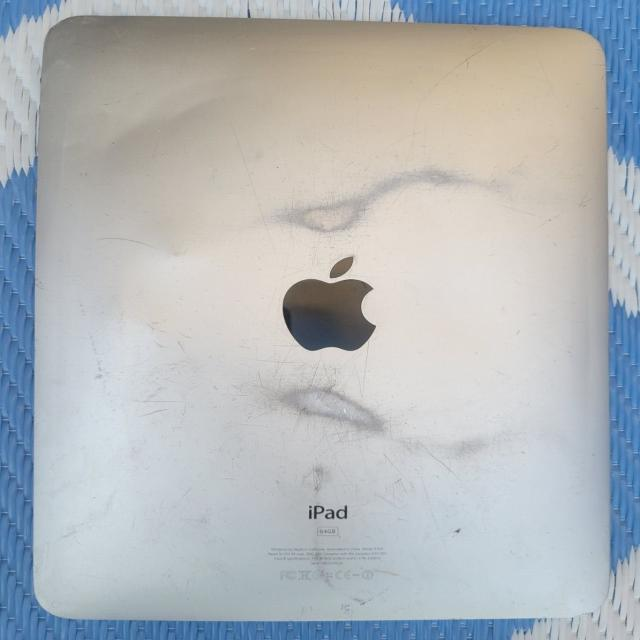Dents: (260, 368, 405, 447), (252, 170, 408, 240)
Scratches: (380, 454, 483, 512), (409, 38, 500, 103), (91, 220, 167, 262)
